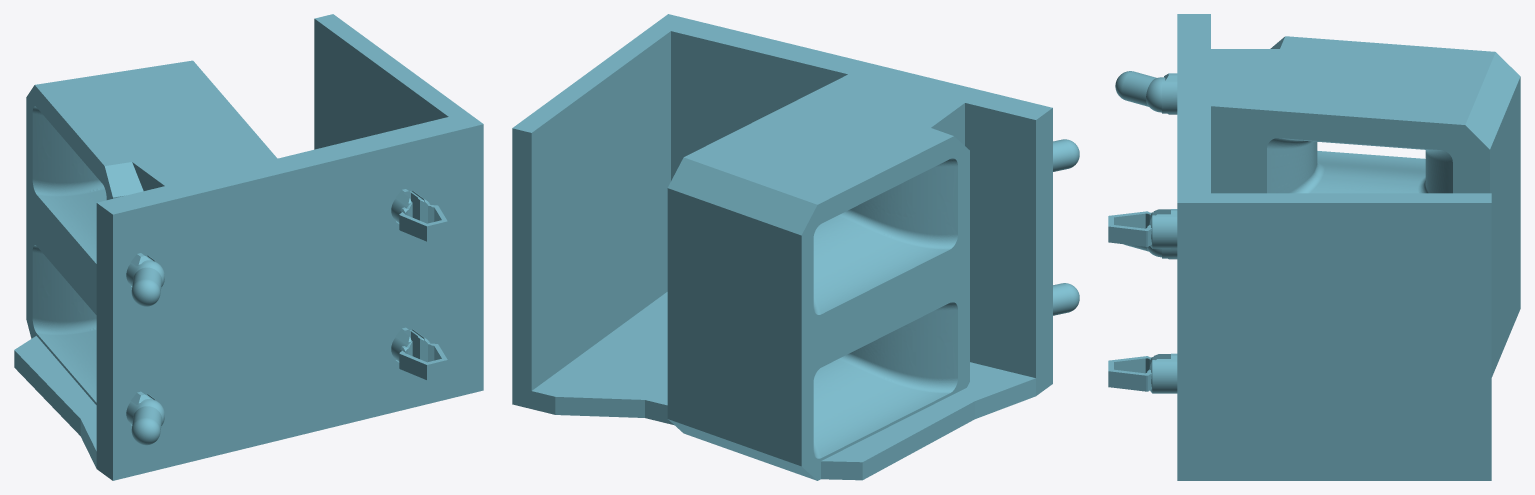
Rendered from part-snips-pliers__current-mounts-v1__fit-pf02c9-hoop5__print.glb.
3 views of the same model, side by side, from view 1: azimuth 30°, elevation 25°; view 2: azimuth 150°, elevation 25°; view 3: azimuth 270°, elevation 25° (orthographic). The views are drawn at different scales.
Parts seen in each view (by area): view 1: print.stl; view 2: print.stl; view 3: print.stl.
Part boxes in pixels (x1,y1,x2,y2): print.stl: [14, 14, 483, 480]; print.stl: [512, 14, 1079, 480]; print.stl: [1108, 14, 1520, 480].
Bounding box in the file's own units: 0.0714 × 0.0488 × 0.0656.
